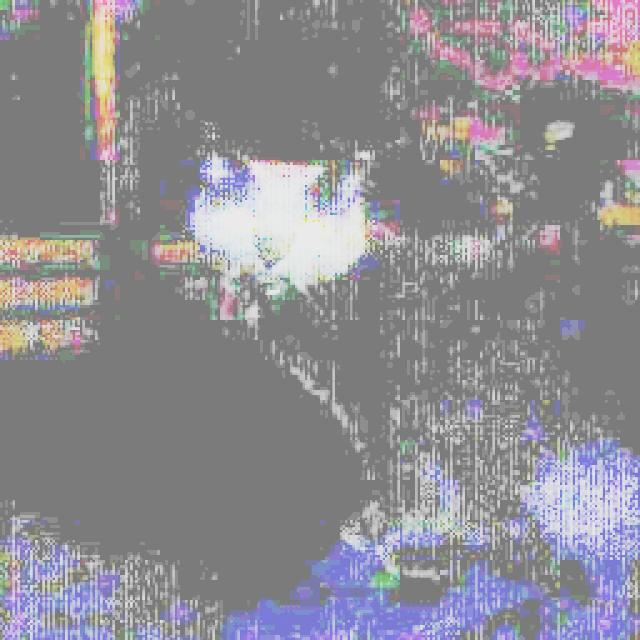cat: (198, 142, 391, 317)
